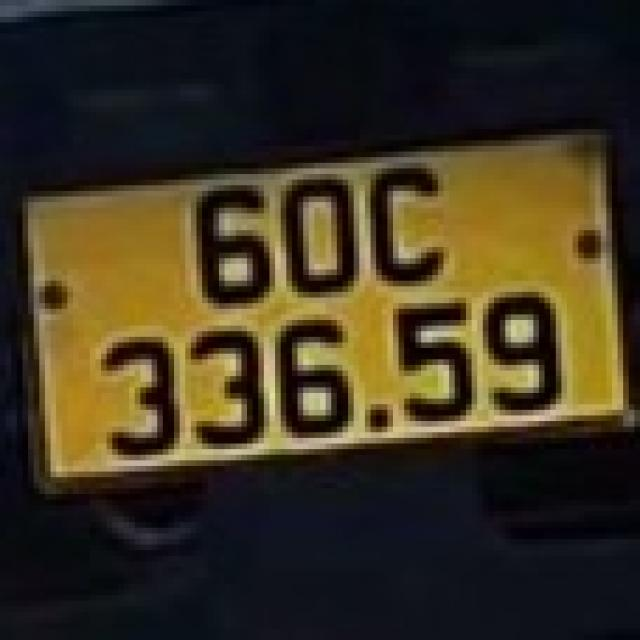0: (285, 174, 357, 297)
3: (100, 334, 178, 456), (191, 328, 266, 446)
5: (392, 298, 477, 430)
6: (191, 183, 274, 313), (277, 314, 352, 438)
9: (483, 289, 564, 417)
C: (370, 162, 445, 287)
